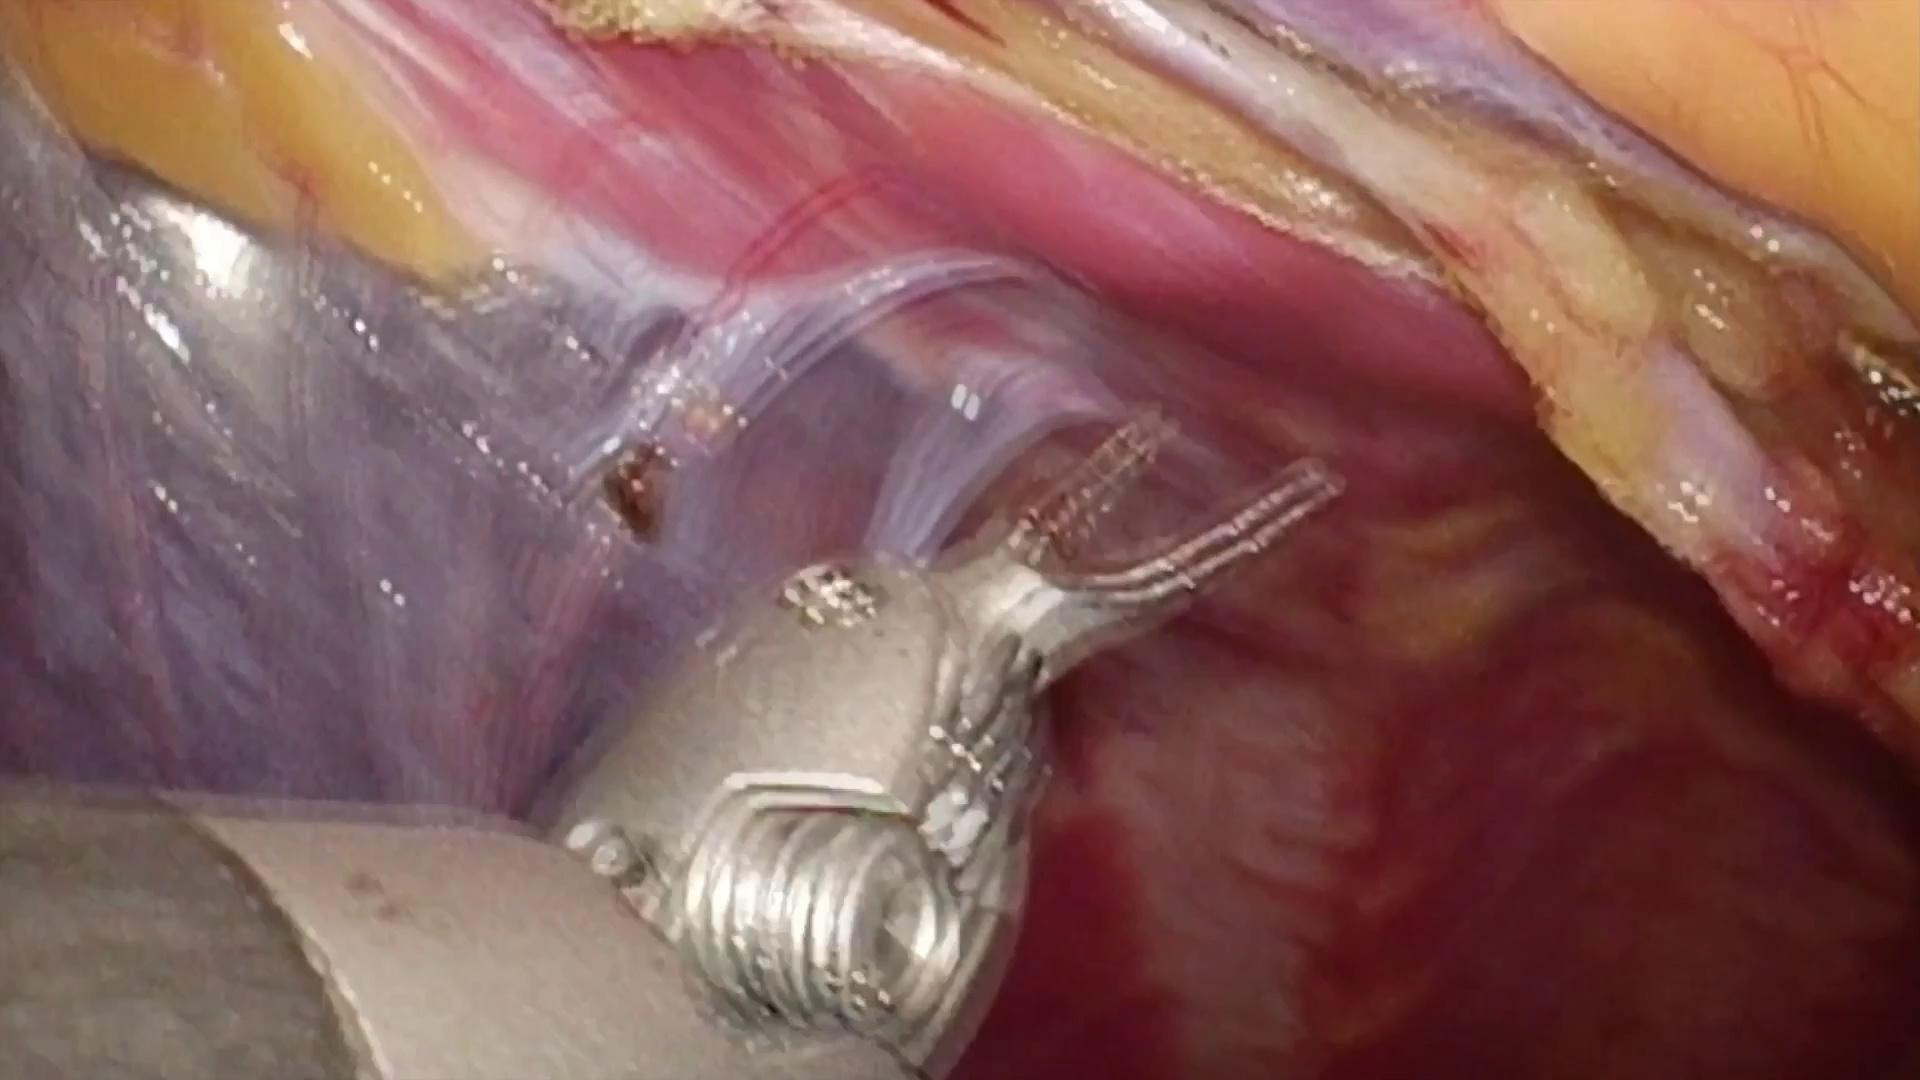Debakey: (870, 364, 1349, 695)
